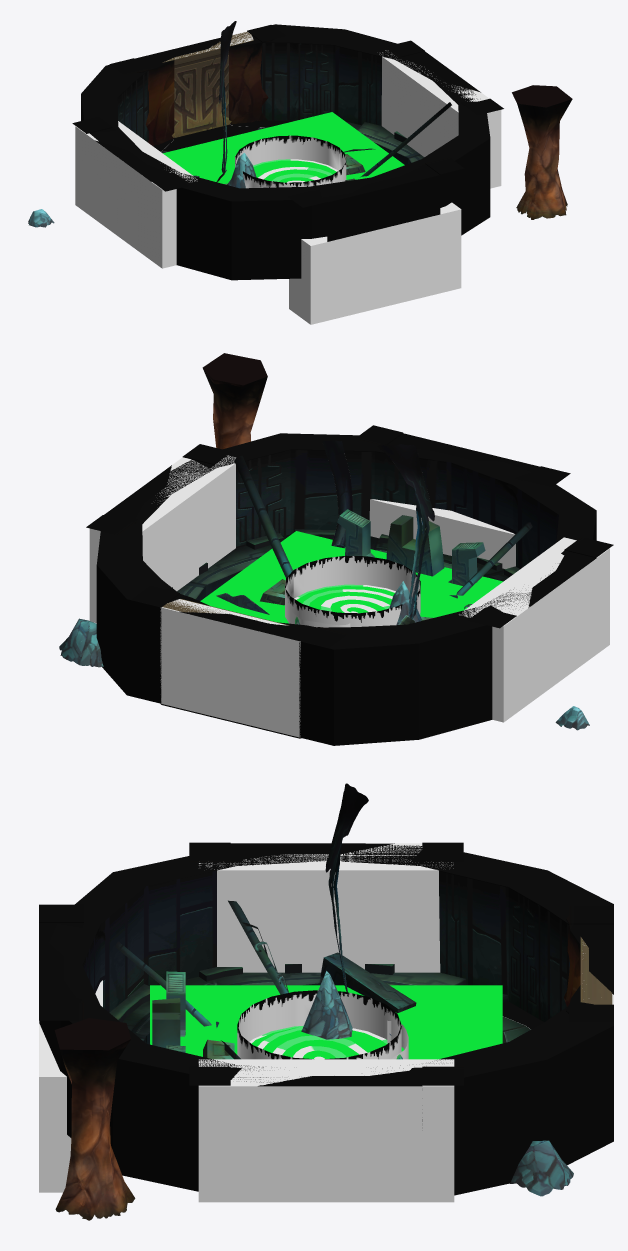
File: Dungeon_062_WarpRoom_008.fbx
3 renders of one model, top to bottom at view 1: azimuth 30°, elevation 25°; view 2: azimuth 150°, elevation 25°; view 3: azimuth 270°, elevation 25°, orthographic. The views are drawn at different scales.
Visible parts, largest first — view 1: Dun_011_WarpRoom_002_wall, DoorWay_NavMask (4), Dun_011_Door_002 (×4), DoorWay_NavMask (3), EF_Dun_Portal_WarpRoom, DoorWay_NavMask (2), Dun_011_Door_002_old, Dungeon_011_Object_010, Dun_011_Door_003_WarpRoom, EF_Dun_Portal_WarpRoom5, Dun_011_WarpRoom_002_object01, Dun_011_WarpRoom_002_ground (+3 smaller); view 2: Dun_011_WarpRoom_002_wall, DoorWay_NavMask (3), DoorWay_NavMask (1), Dun_011_WarpRoom_002_object01, DoorWay_NavMask (2), EF_Dun_Portal_WarpRoom, Dun_011_Door_002 (×4), EF_Dun_Portal_WarpRoom5, Dungeon_011_Object_010, DoorWay_NavMask (4), Dun_011_WarpRoom_002_ground, Dun_011_Door_002_old (+3 smaller); view 3: Dun_011_WarpRoom_002_wall, DoorWay_NavMask (2), DoorWay_NavMask (3), EF_Dun_Portal_WarpRoom, Dun_011_Door_002 (×3), Dungeon_011_Object_010, Dun_011_WarpRoom_002_object01, EF_Dun_Portal_WarpRoom5, Dun_011_WarpRoom_002_ground, Dun_011_Door_002_old, DoorWay_NavMask (4), Dungeon_011_Object_012 (+3 smaller).
Part boxes in pixels (bbox=[...]): Dun_011_WarpRoom_002_wall: bbox=[81, 24, 490, 280]; DoorWay_NavMask (4): bbox=[289, 202, 461, 324]; Dun_011_Door_002 (×4): bbox=[72, 32, 503, 241]; DoorWay_NavMask (3): bbox=[75, 121, 197, 268]; EF_Dun_Portal_WarpRoom: bbox=[163, 112, 404, 183]; DoorWay_NavMask (2): bbox=[379, 50, 501, 188]; Dun_011_Door_002_old: bbox=[110, 25, 285, 145]; Dungeon_011_Object_010: bbox=[512, 85, 572, 219]; Dun_011_Door_003_WarpRoom: bbox=[162, 31, 253, 137]; EF_Dun_Portal_WarpRoom5: bbox=[235, 135, 346, 188]; Dun_011_WarpRoom_002_object01: bbox=[193, 21, 451, 184]; Dun_011_WarpRoom_002_ground: bbox=[161, 121, 424, 164]; Dun_011_WarpRoom_002_wall: bbox=[96, 433, 596, 745]; DoorWay_NavMask (3): bbox=[459, 537, 609, 722]; DoorWay_NavMask (1): bbox=[160, 599, 300, 737]; Dun_011_WarpRoom_002_object01: bbox=[216, 440, 532, 737]; DoorWay_NavMask (2): bbox=[89, 455, 235, 622]; EF_Dun_Portal_WarpRoom: bbox=[200, 531, 503, 623]; Dun_011_Door_002 (×4): bbox=[86, 425, 613, 738]; EF_Dun_Portal_WarpRoom5: bbox=[285, 555, 420, 627]; Dungeon_011_Object_010: bbox=[202, 353, 267, 449]; DoorWay_NavMask (4): bbox=[369, 499, 515, 568]; Dun_011_WarpRoom_002_ground: bbox=[161, 529, 519, 738]; Dun_011_Door_002_old: bbox=[132, 586, 347, 647]; Dun_011_WarpRoom_002_wall: bbox=[39, 845, 613, 1195]; DoorWay_NavMask (2): bbox=[198, 1059, 454, 1202]; DoorWay_NavMask (3): bbox=[199, 843, 453, 972]; EF_Dun_Portal_WarpRoom: bbox=[150, 985, 502, 1059]; Dun_011_Door_002 (×3): bbox=[39, 842, 463, 1121]; Dungeon_011_Object_010: bbox=[54, 1018, 135, 1220]; Dun_011_WarpRoom_002_object01: bbox=[115, 783, 416, 1059]; EF_Dun_Portal_WarpRoom5: bbox=[237, 990, 401, 1059]; Dun_011_WarpRoom_002_ground: bbox=[109, 964, 530, 1044]; Dun_011_Door_002_old: bbox=[566, 906, 613, 1021]; DoorWay_NavMask (4): bbox=[39, 980, 102, 1192]; Dungeon_011_Object_012: bbox=[510, 1140, 573, 1196].
Size of what is drawn, in the model's own units: 11.98 by 5.5 by 9.39.
